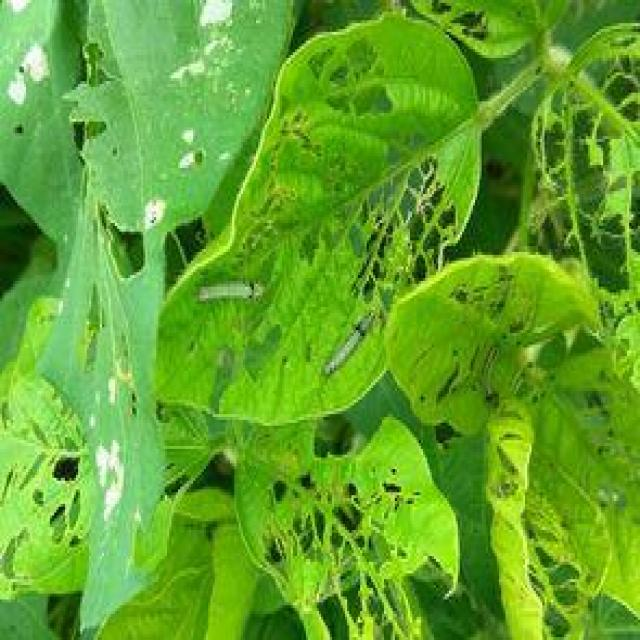BeetArmyWorm-Larva-: (320, 314, 372, 380), (197, 275, 263, 308)
